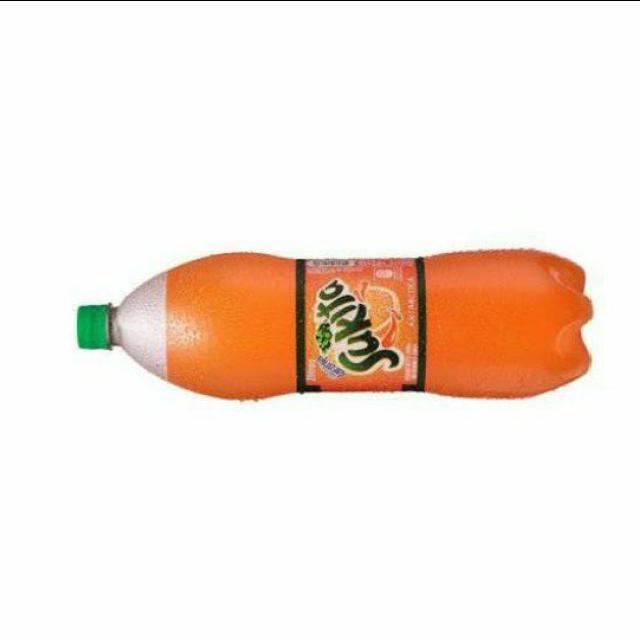bottle: (77, 249, 590, 398)
